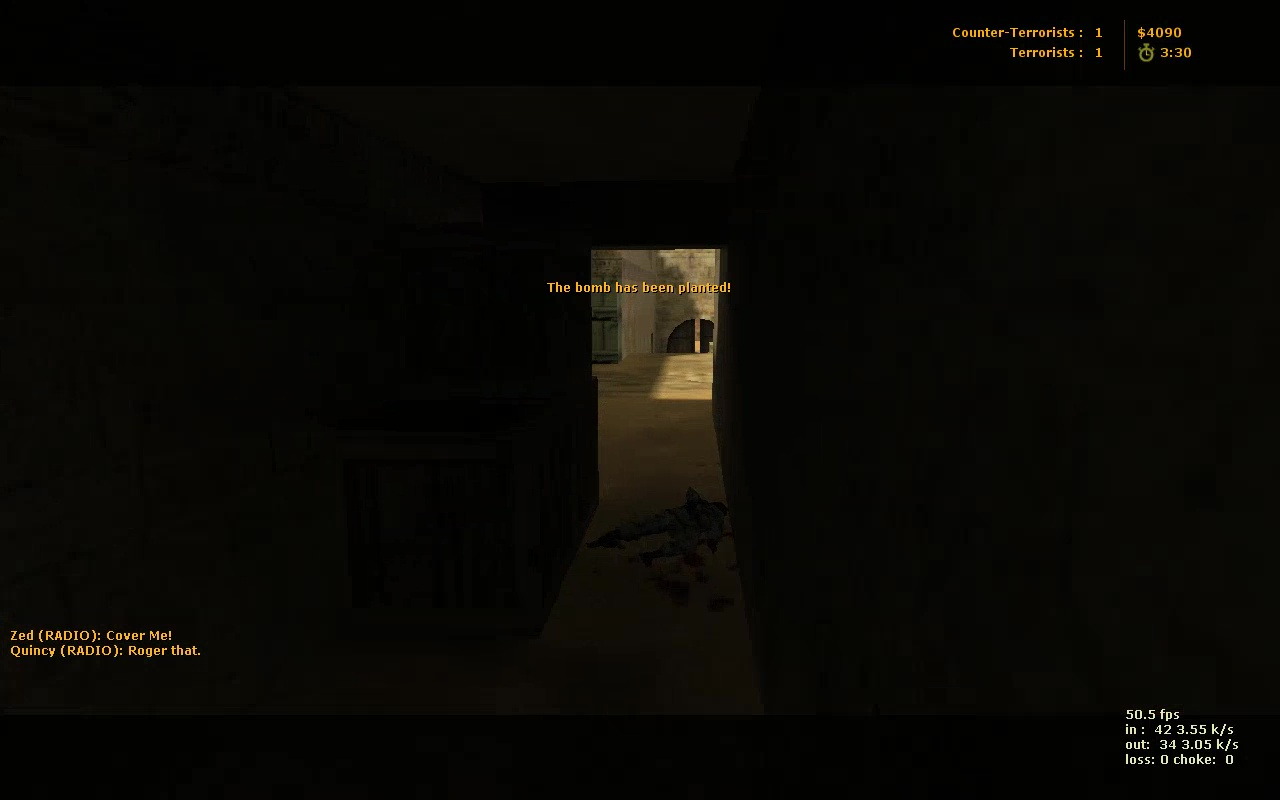dead: (581, 485, 735, 563)
